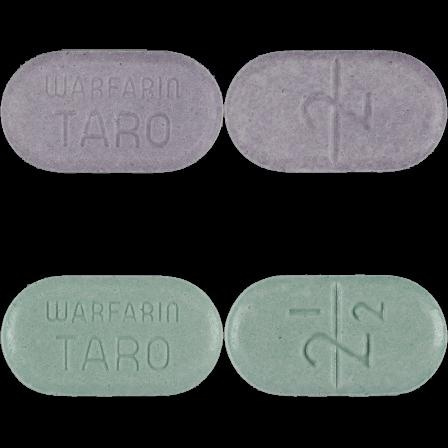51138-055: (0, 0, 224, 224)
